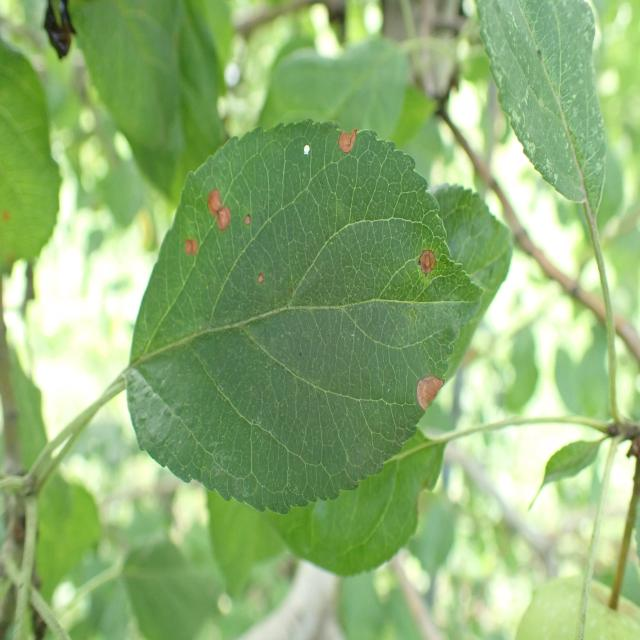Black Rot: (410, 348, 449, 430), (200, 171, 238, 245), (329, 121, 368, 177), (410, 236, 442, 278), (173, 227, 206, 256), (251, 265, 273, 301)
